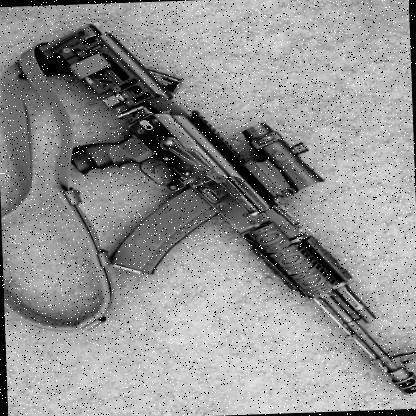rifle: (19, 10, 416, 384)
